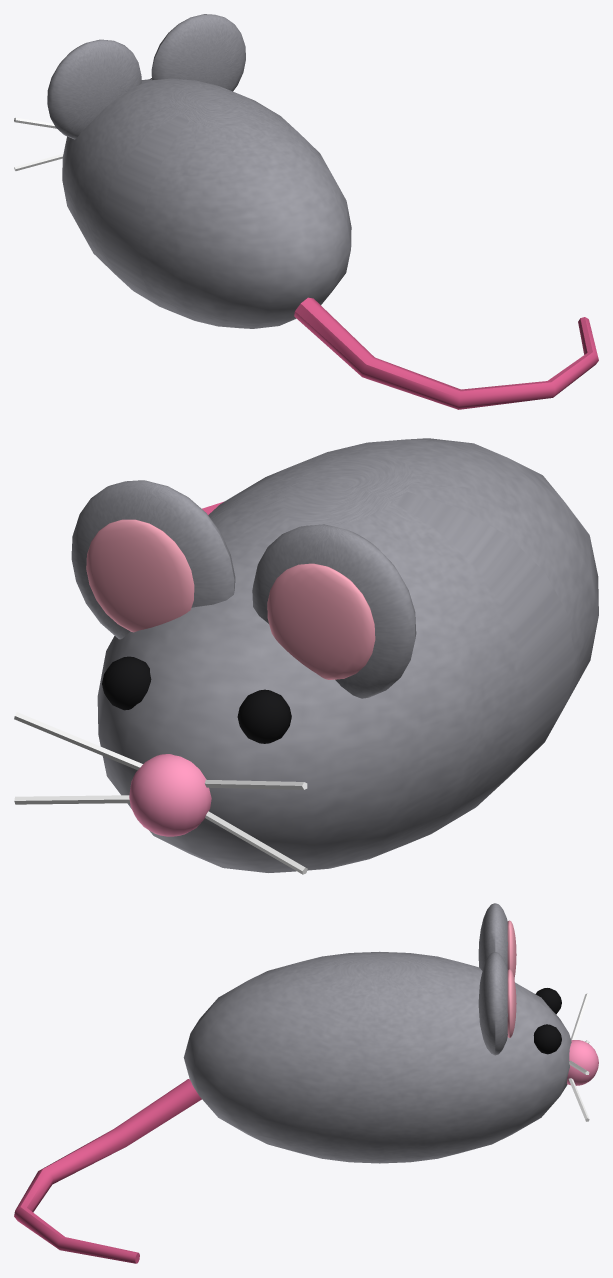
File: Toy_ToyMouse.fbx
3 renders of one model, top to bottom at view 1: azimuth 30°, elevation 25°; view 2: azimuth 150°, elevation 25°; view 3: azimuth 270°, elevation 25°, orthographic. The views are drawn at different scales.
Parts seen in each view (by area): view 1: ToyMouse; view 2: ToyMouse; view 3: ToyMouse.
Boxes of the visible parts, x1,y1,x2,y2 form: ToyMouse: [14, 14, 598, 409]; ToyMouse: [14, 438, 598, 874]; ToyMouse: [14, 903, 598, 1263].
Size of the model in its own units: 0.689 by 0.4197 by 1.01.
1 material, 1 textured.
